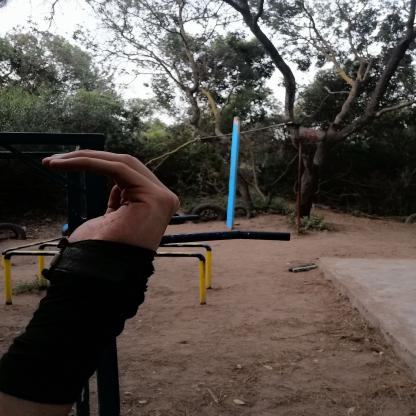HAA: (19, 138, 195, 284)
